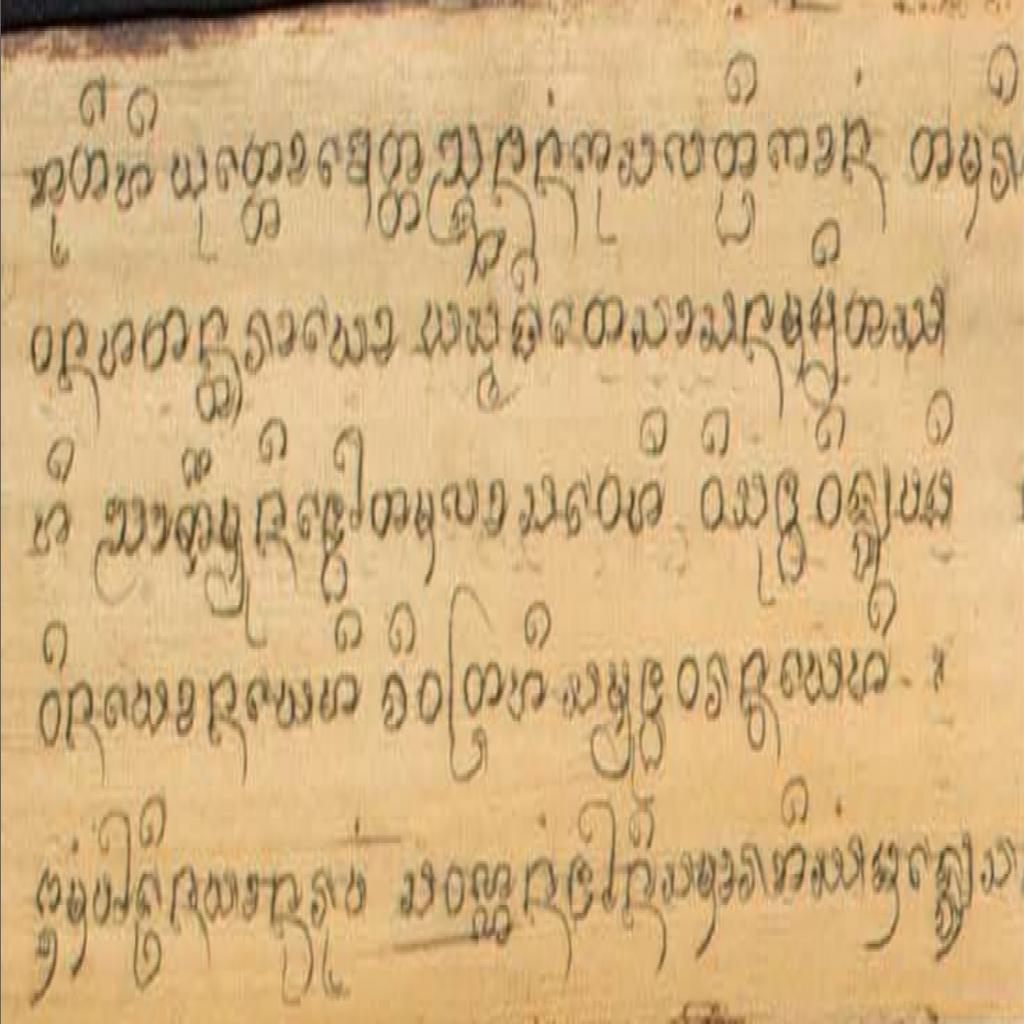LN001: (767, 120, 812, 180)
LN019: (68, 136, 112, 212)
LN032: (170, 143, 211, 206)
LN033: (244, 301, 276, 384)
